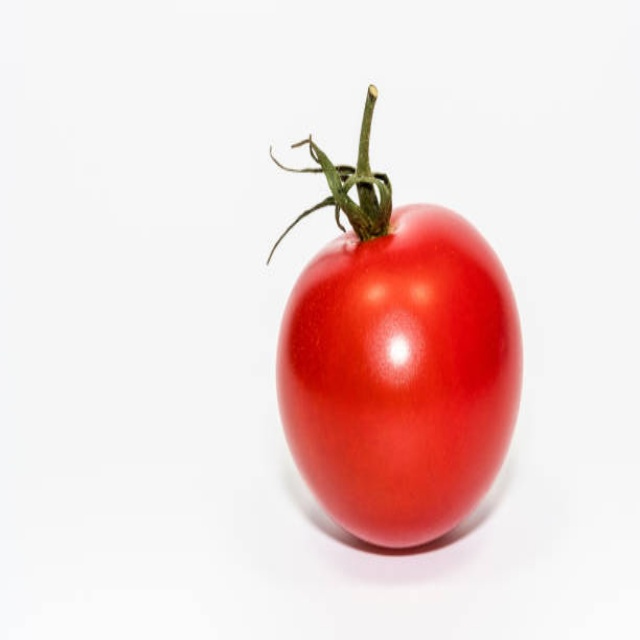tomato: (262, 80, 526, 553)
